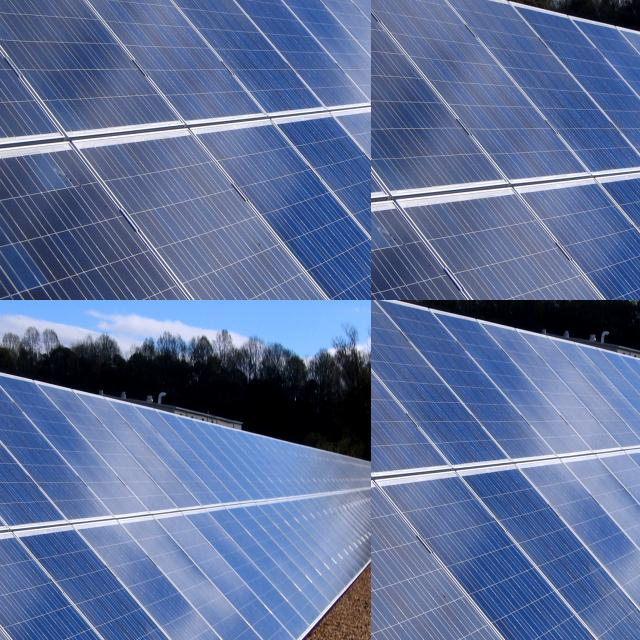crack: (390, 476, 640, 640), (371, 487, 610, 640), (371, 300, 539, 514), (374, 300, 558, 492), (460, 447, 640, 640), (371, 300, 513, 517), (423, 300, 591, 476), (501, 431, 640, 640), (529, 419, 640, 640), (371, 300, 459, 540), (506, 0, 640, 121), (397, 0, 518, 88), (0, 357, 56, 470), (0, 453, 44, 583), (0, 363, 55, 460), (429, 0, 526, 48), (0, 300, 60, 370), (608, 0, 640, 129), (0, 300, 53, 350), (371, 0, 441, 30)
shadow: (42, 0, 65, 28)
